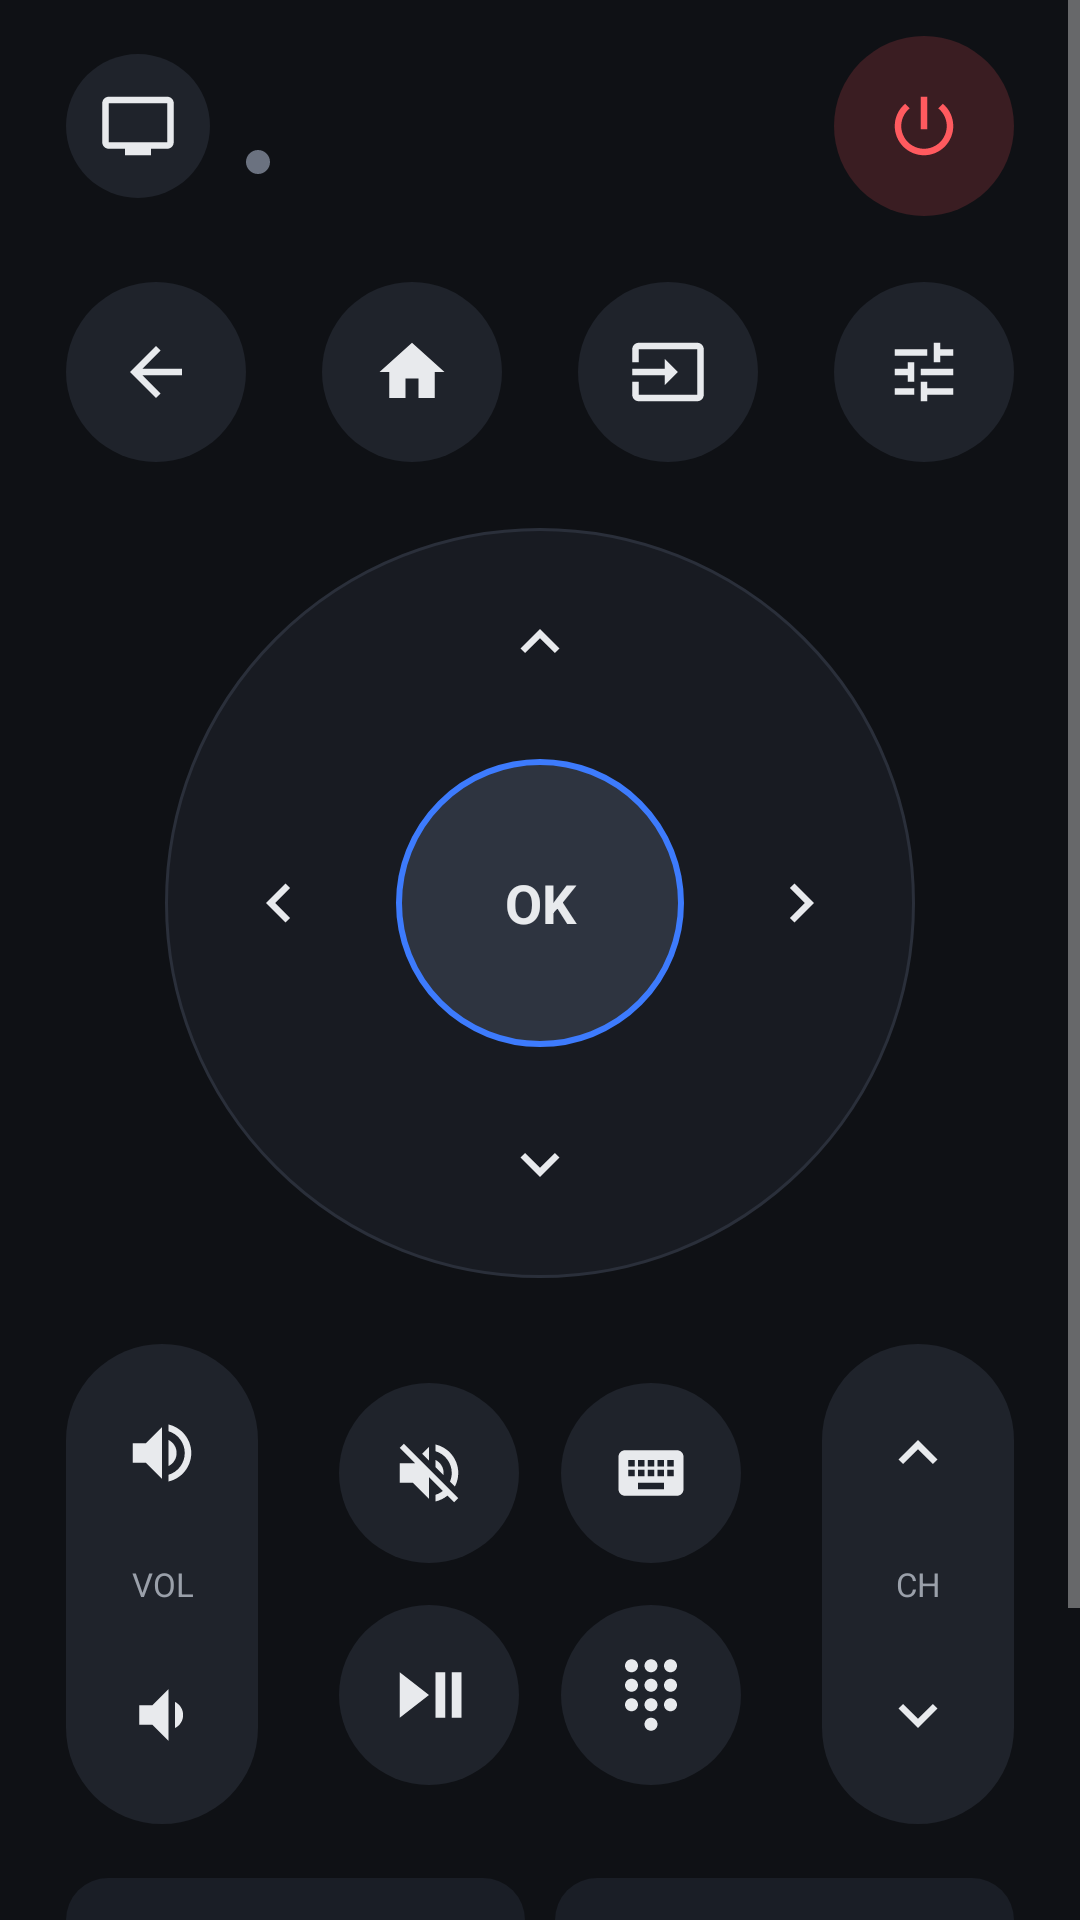

Named icons in this screenshot (1080x1920) and their bounding boxes, region(x1, y1, x2, y2):
Back: region(66, 282, 246, 462)
Channel down: region(822, 1606, 1014, 1824)
Channel up: region(822, 1344, 1014, 1562)
Choose TV: region(66, 54, 210, 198)
Down: region(520, 1153, 560, 1177)
Home: region(379, 342, 445, 398)
Input source: region(578, 282, 758, 462)
Keyboard: region(618, 1450, 684, 1496)
Left: region(266, 883, 290, 923)
Mute: region(339, 1383, 519, 1563)
Number pad: region(561, 1605, 741, 1785)
Play or pause: region(399, 1672, 462, 1718)
Power: region(834, 36, 1014, 216)
Right: region(790, 883, 814, 923)
TV settings: region(834, 282, 1014, 462)
Up: region(520, 629, 560, 653)
Volume down: region(66, 1606, 258, 1824)
Volume up: region(66, 1344, 258, 1562)
